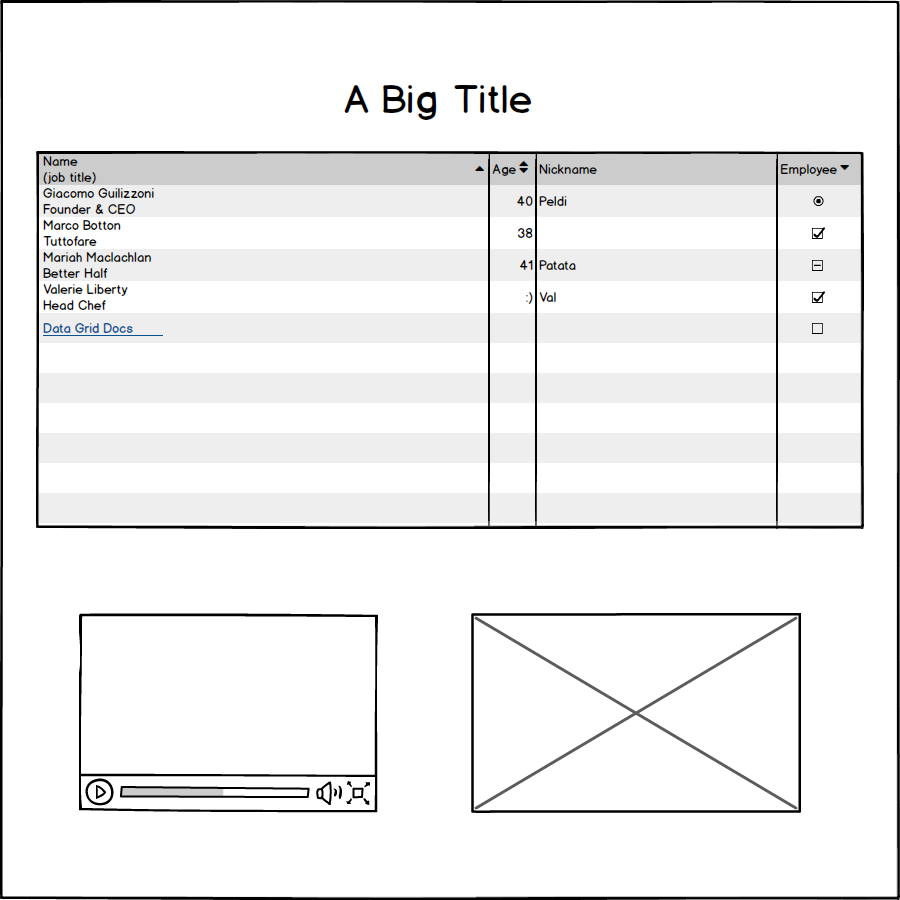h1: (339, 73, 542, 128)
image: (463, 606, 808, 817)
slideshow: (31, 148, 871, 534)
video: (72, 607, 385, 825)
